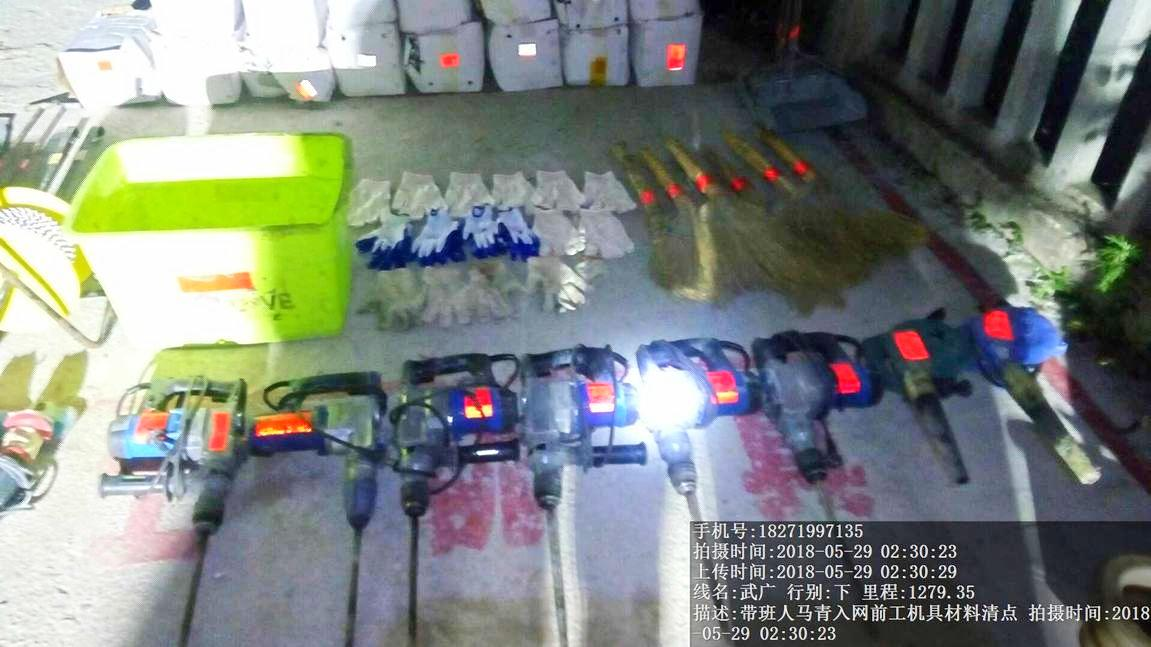DZ: (92, 372, 250, 567), (251, 370, 390, 564), (510, 347, 651, 530), (387, 357, 519, 545), (636, 332, 759, 517), (749, 326, 876, 491)
SB: (666, 148, 830, 291)
T: (62, 132, 358, 348)
